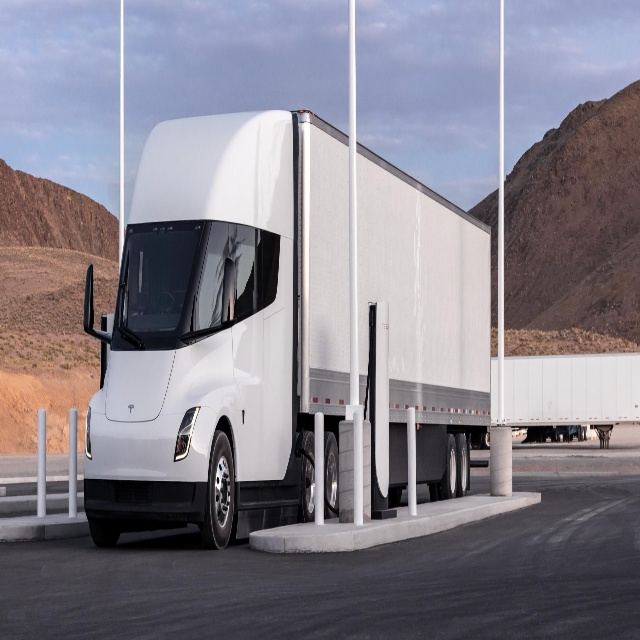Truck: (83, 107, 490, 552)
